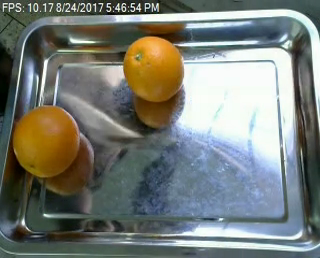Orange: (10, 105, 79, 177), (121, 36, 184, 103)
